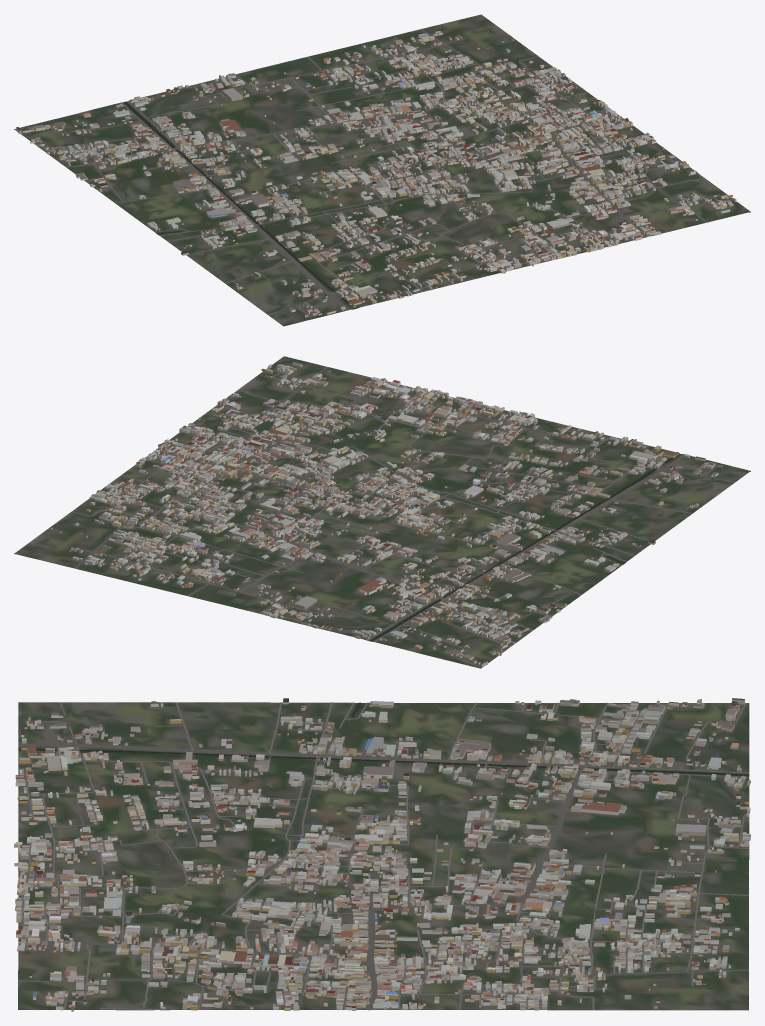
3 renders of one model, top to bottom at view 1: azimuth 30°, elevation 25°; view 2: azimuth 150°, elevation 25°; view 3: azimuth 270°, elevation 25°, orthographic. The views are drawn at different scales.
Parts seen in each view (by area): view 1: ground, buildings, roads, water; view 2: ground, buildings, roads, water; view 3: ground, buildings, roads, water.
Boxes of the visible parts, x1,y1,x2,y2 form: ground: (14, 14, 750, 326); buildings: (16, 30, 736, 317); roads: (15, 29, 732, 321); water: (124, 101, 355, 308); ground: (14, 356, 750, 668); buildings: (50, 362, 722, 667); roads: (71, 367, 735, 667); water: (369, 453, 679, 641); ground: (18, 702, 749, 1010); buildings: (14, 698, 750, 1011); roads: (18, 702, 749, 1010); water: (18, 702, 749, 776).
Bounding box in the file's own units: 1414 × 22.92 × 1412.
